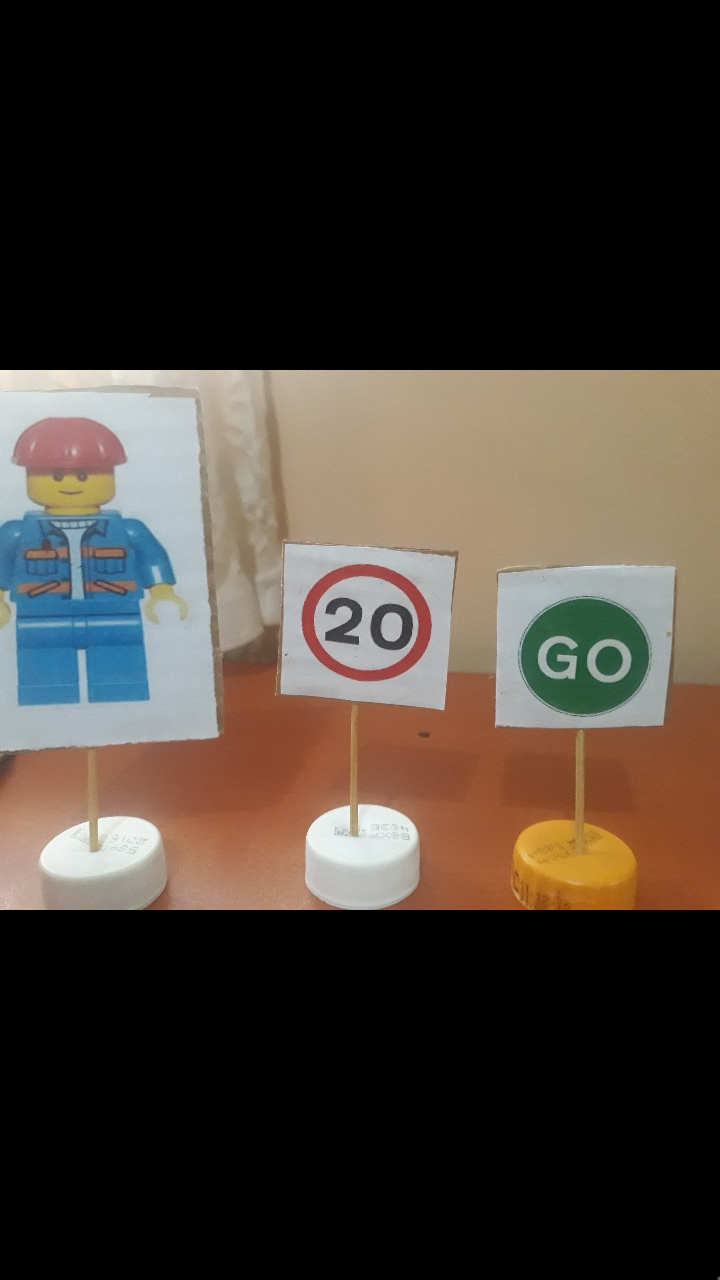20 kph: (297, 547, 442, 702)
go: (506, 574, 667, 725)
pedestrian: (2, 400, 193, 739)
